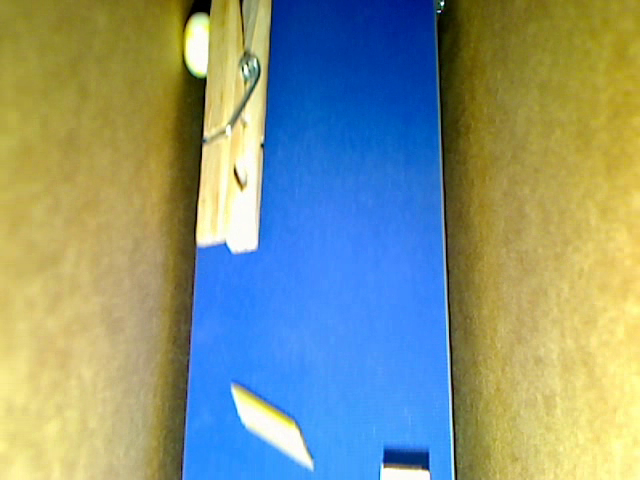penne: (230, 382, 314, 470)
